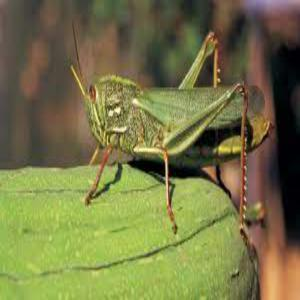locust: (69, 45, 292, 180)
